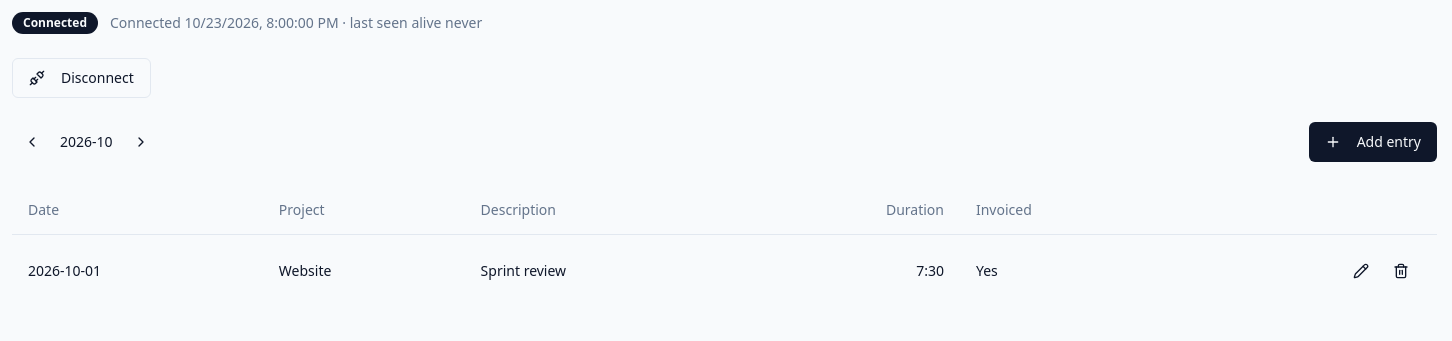
Test case: MyZenPanel › when connected › reports an entry that cannot be opened
This screenshot has width=1452, height=341.
Click the button named "Edit entry of 2026-10-01" at (1361, 270), box [1341,250,1381,290]
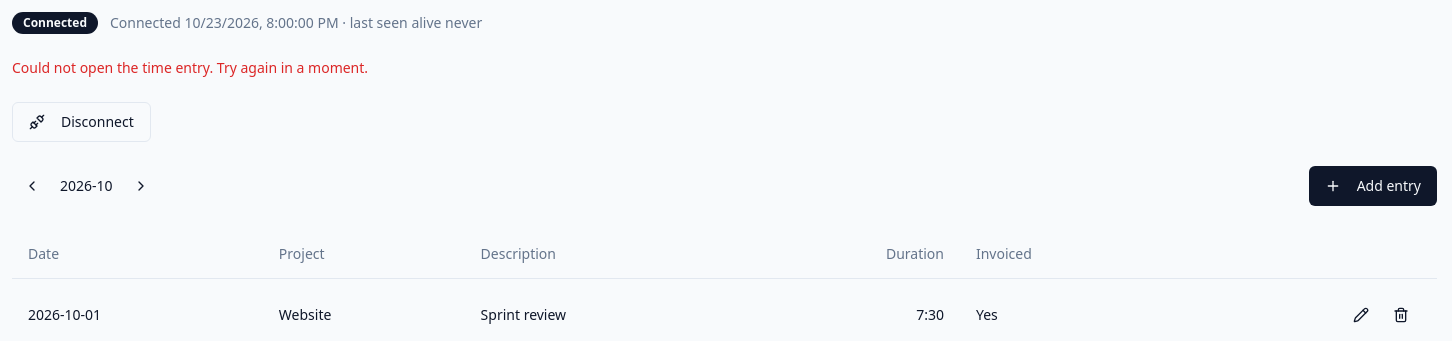
expect the text "Could not open the time entry. Try again in a moment." is shown: met, box [12,58,368,77]
